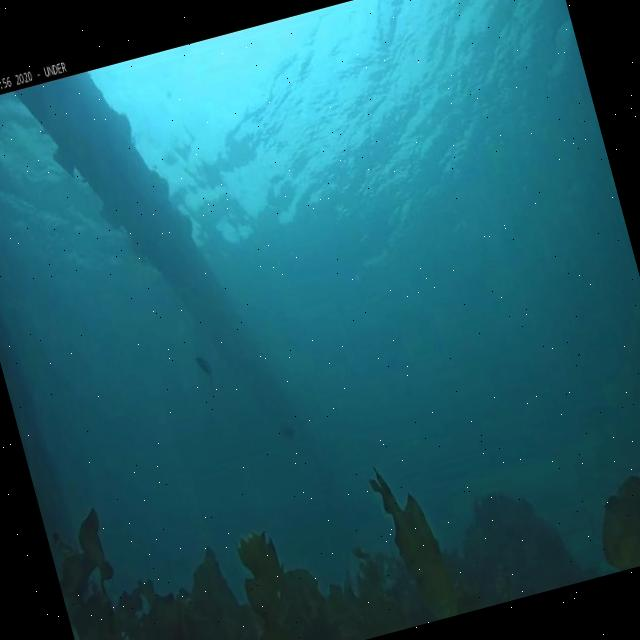fish: (192, 350, 215, 385), (276, 419, 297, 444)
